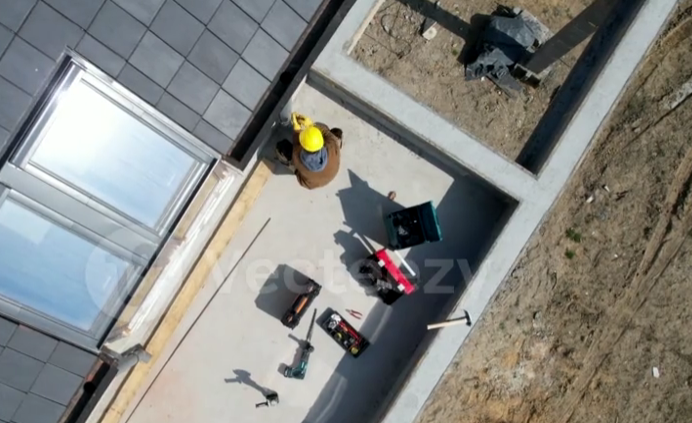safety_helmet: (298, 126, 324, 153), (291, 111, 313, 132)
